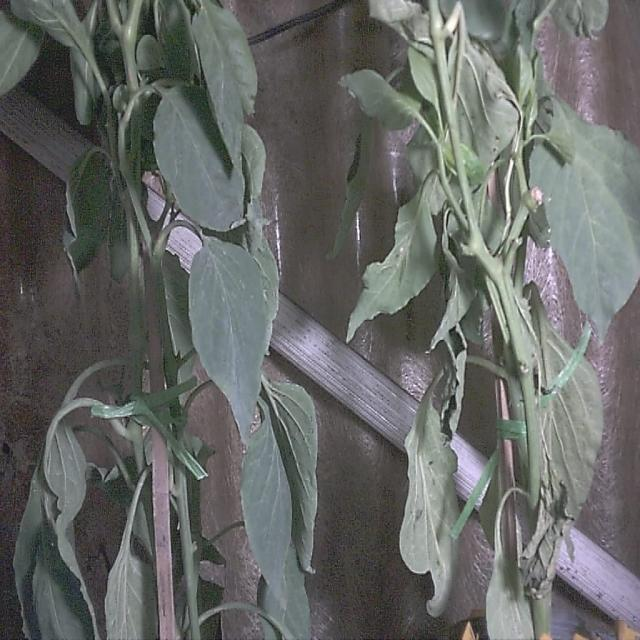Leaf: (531, 100, 639, 336), (189, 237, 268, 443), (400, 385, 458, 616), (154, 87, 244, 230), (0, 11, 44, 94)
